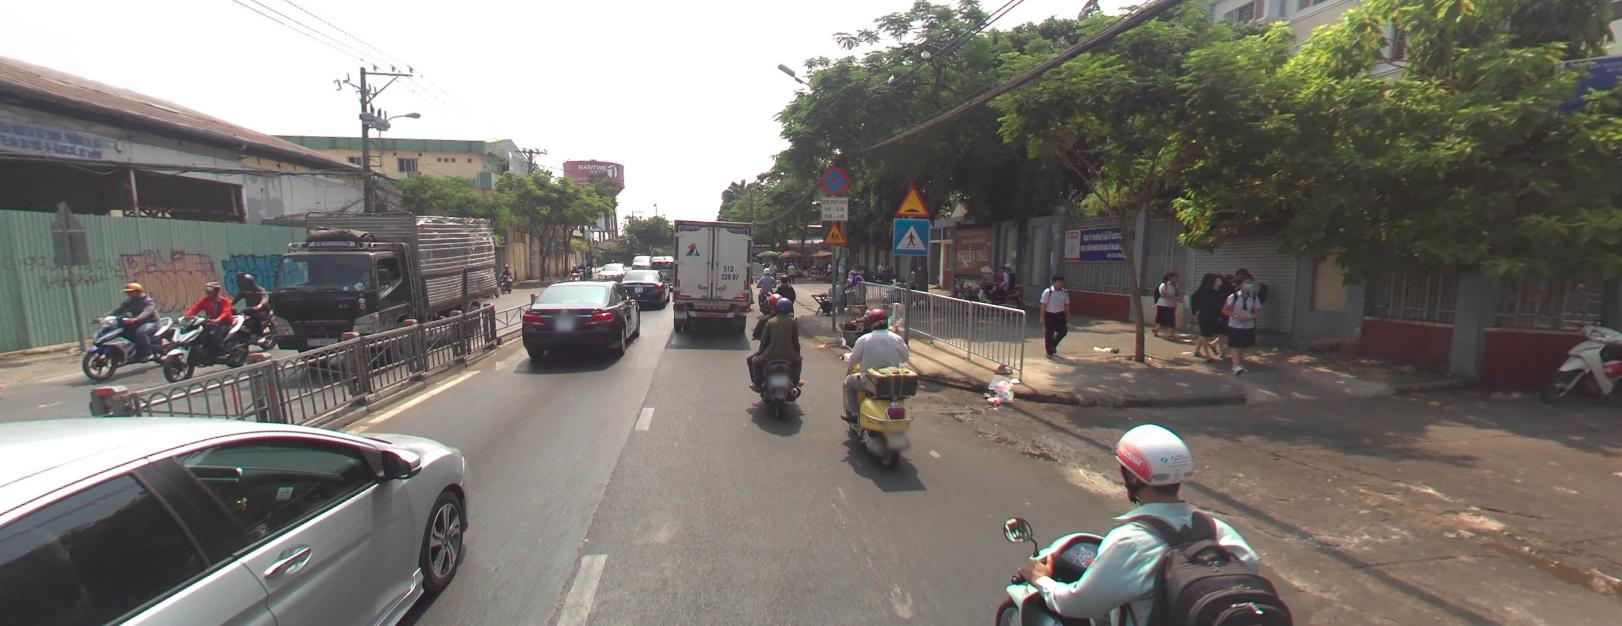Cam dung va do: (821, 163, 849, 193)
Nguy hiem: (894, 182, 931, 216), (820, 221, 848, 244)
